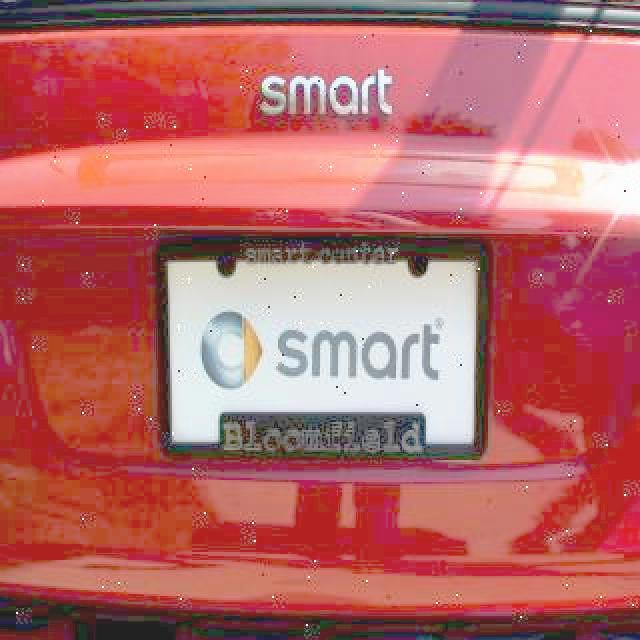license_plate: (156, 228, 494, 457)
